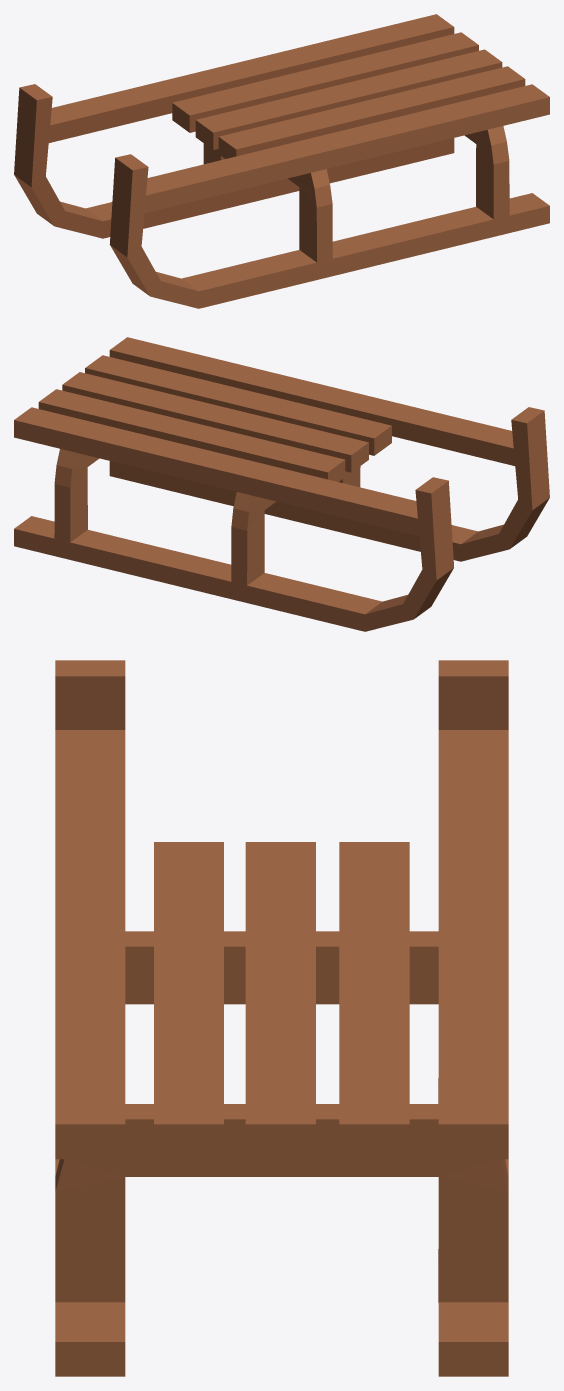
Rendered from Sledge_Alt2.fbx.
The picture shows the model from 3 angles, top to bottom: view 1: azimuth 30°, elevation 25°; view 2: azimuth 150°, elevation 25°; view 3: azimuth 270°, elevation 25°; orthographic projection. The views are drawn at different scales.
Parts seen in each view (by area): view 1: Sledge_Alt2; view 2: Sledge_Alt2; view 3: Sledge_Alt2.
Boxes of the visible parts, <box> form: Sledge_Alt2: <box>14,14,549,308</box>; Sledge_Alt2: <box>14,337,549,631</box>; Sledge_Alt2: <box>55,660,508,1376</box>.
Size of the model in its own units: 0.6373 by 0.2228 by 0.296.
